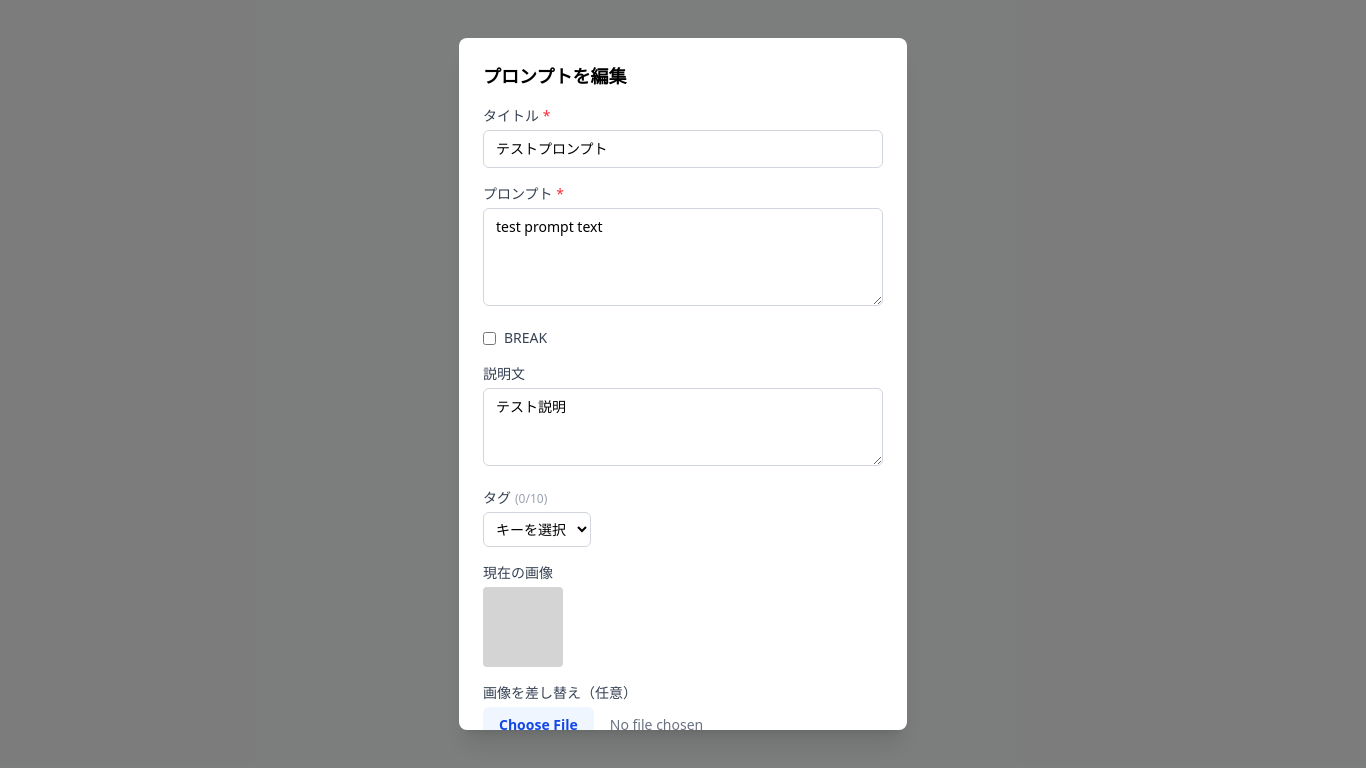
Scenario: PromptEditDialog › タイトル空でバリデーションエラー
Step 1. Clear the field with test id "edit-title-input" → x=683, y=149, box [483, 130, 883, 168]
(page scrolled)
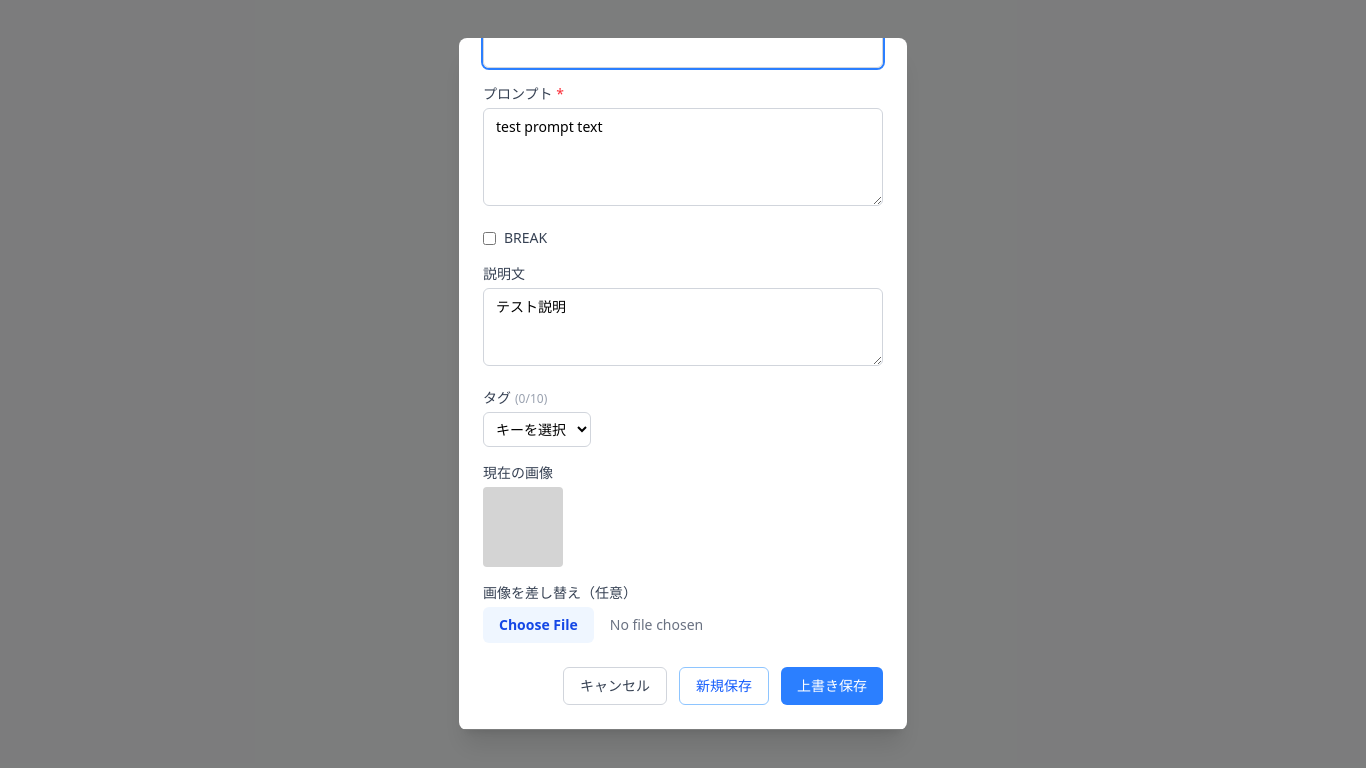
Step 2. Click the button with test id "edit-prompt-save" → x=832, y=686, box [781, 667, 883, 705]
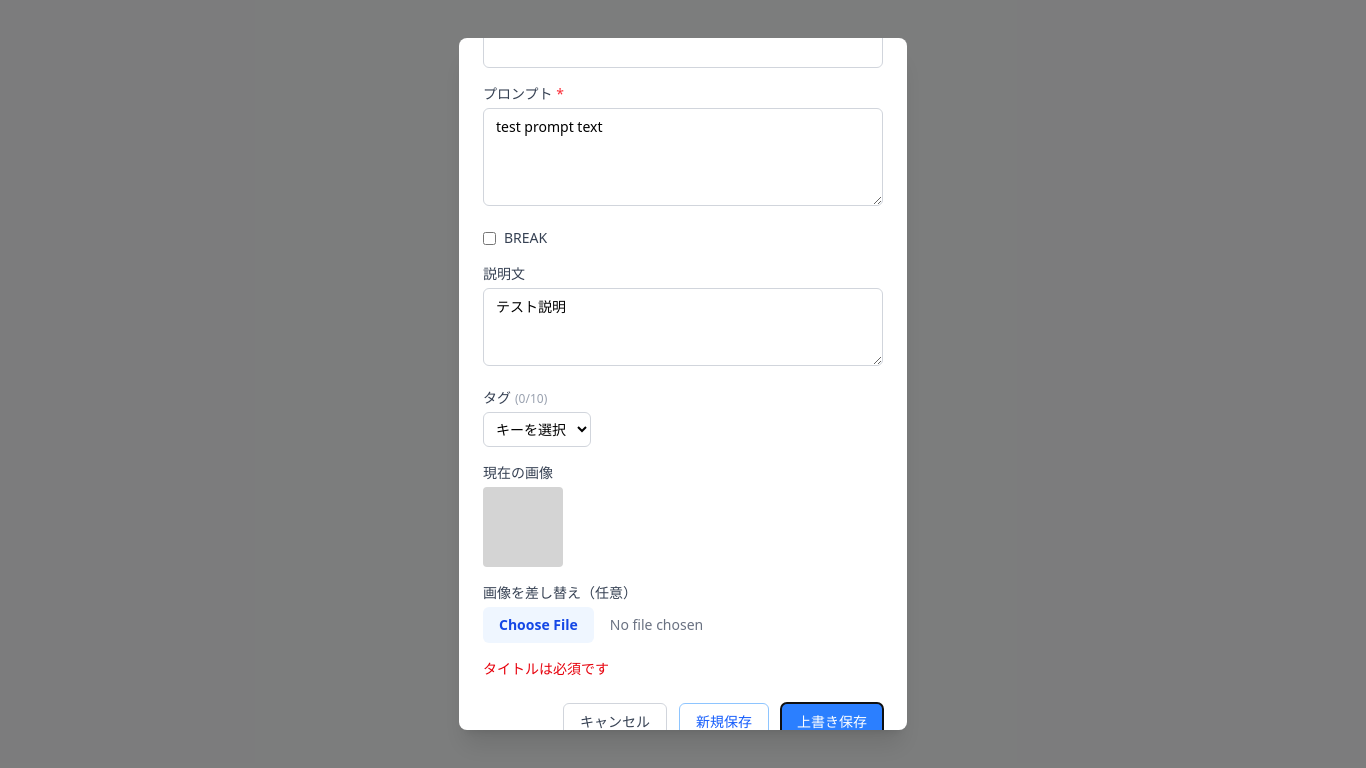
Expected: the text with test id "edit-prompt-error" reads "タイトルは必須です", [483, 659, 609, 678]
